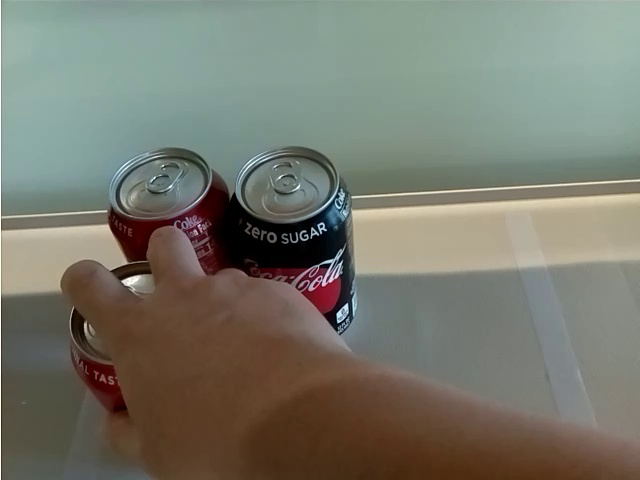cocacola: (66, 263, 197, 480), (230, 144, 358, 342), (108, 148, 228, 274)
hand: (59, 226, 356, 480)
